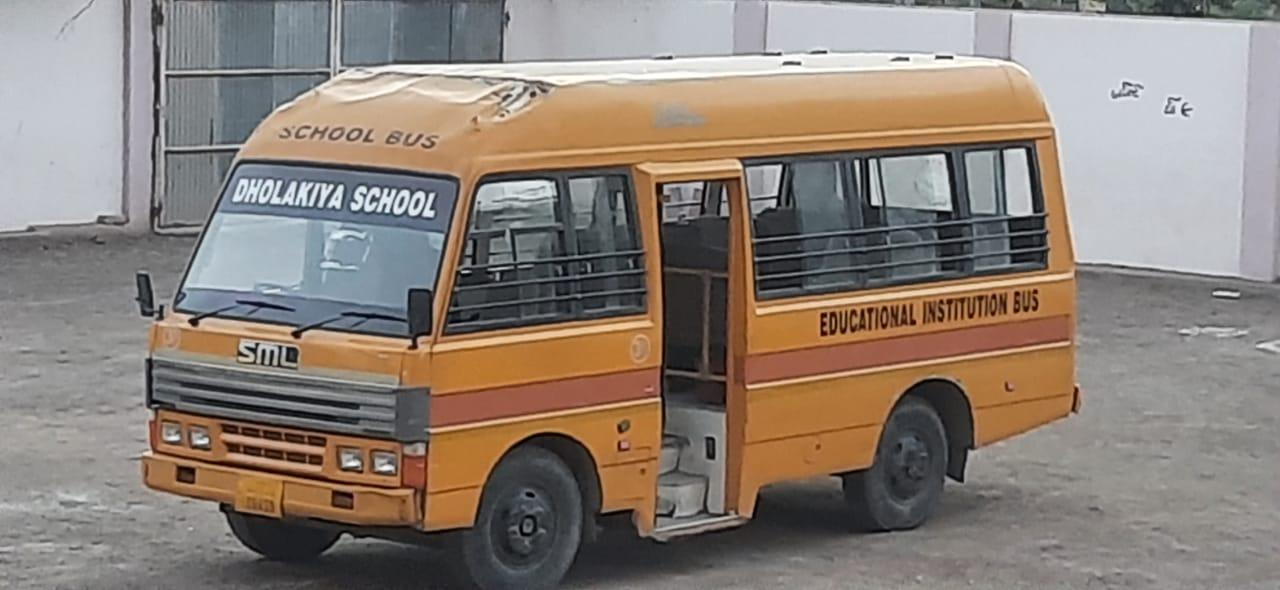Bus: (123, 39, 1120, 572)
